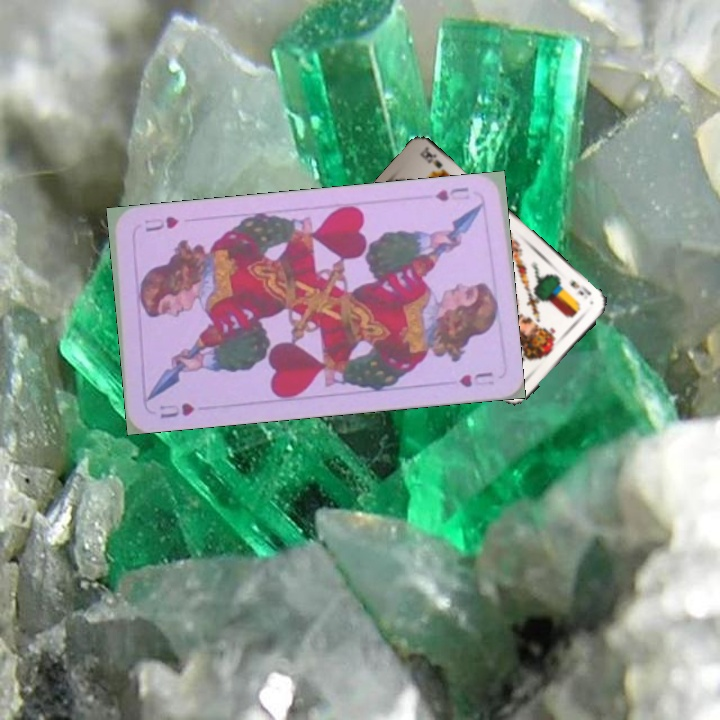EK: (566, 276, 594, 298)
HU: (155, 399, 197, 421), (431, 183, 472, 204)
